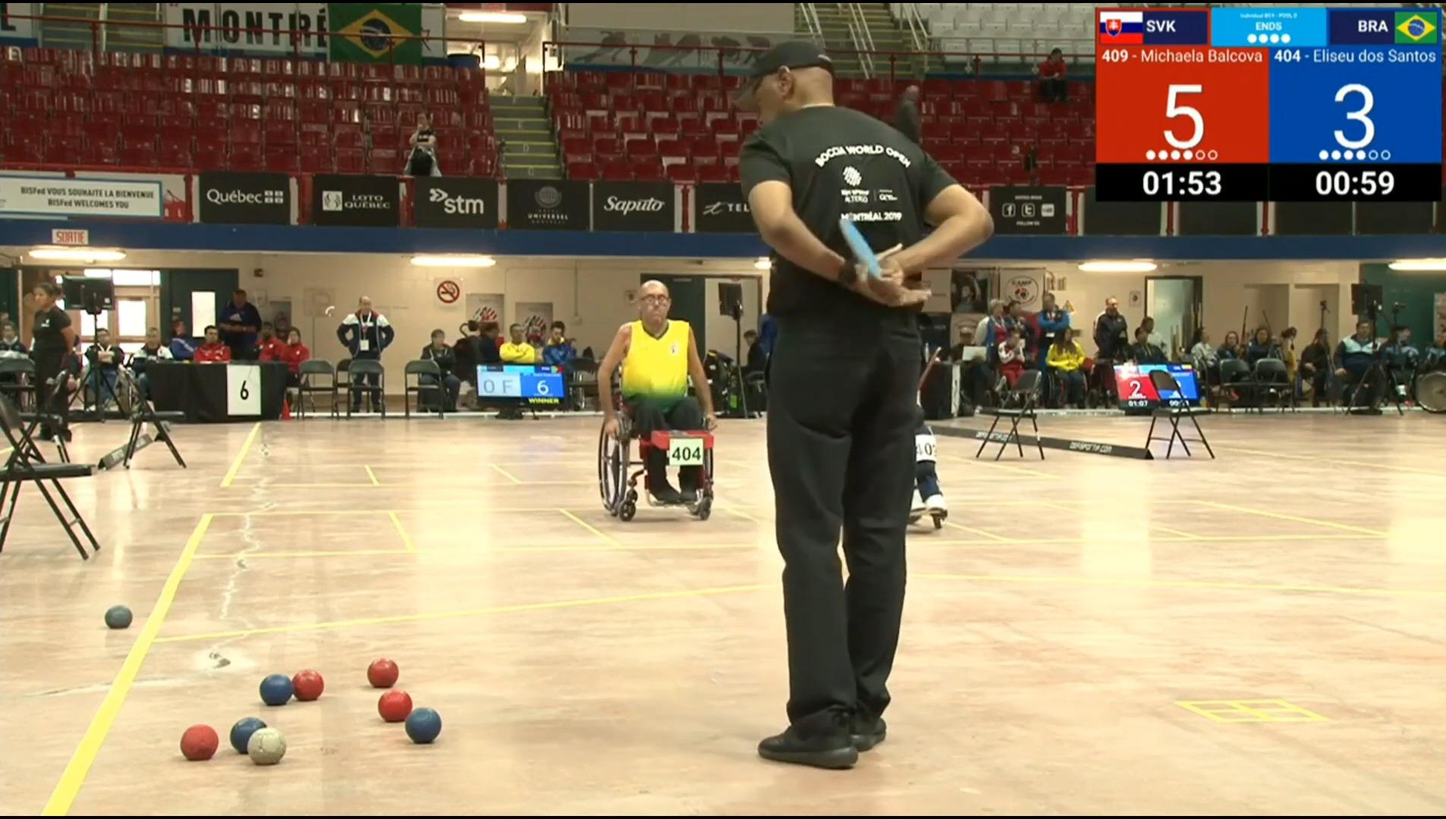blue_ball: (402, 704, 444, 747), (256, 671, 294, 708)
red_ball: (177, 721, 219, 762), (288, 667, 326, 705), (375, 688, 415, 724), (365, 655, 400, 689)
white_ball: (244, 726, 288, 768)
